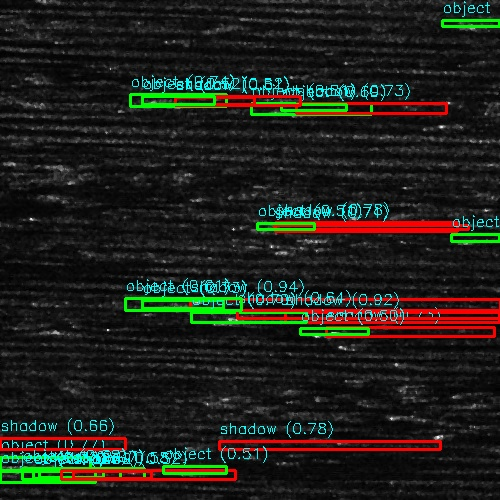rock: (81, 299, 238, 310), (210, 313, 315, 322), (0, 458, 71, 471), (15, 329, 108, 336), (329, 340, 412, 347), (20, 471, 103, 478), (323, 326, 386, 333), (161, 443, 234, 448), (382, 411, 445, 416), (176, 99, 207, 102), (0, 438, 11, 445)
shadow: (160, 299, 405, 310), (263, 313, 500, 322), (0, 251, 46, 276), (62, 329, 224, 336), (62, 471, 220, 478), (35, 458, 113, 471), (0, 438, 131, 445), (355, 326, 441, 333), (371, 340, 457, 347), (279, 226, 443, 229), (414, 411, 499, 416), (198, 443, 280, 448), (0, 54, 31, 65), (192, 99, 265, 102)
